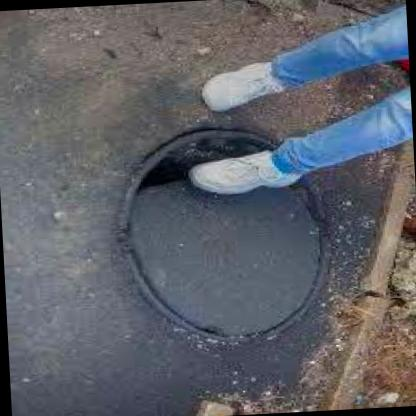manholes: (79, 103, 360, 366)
